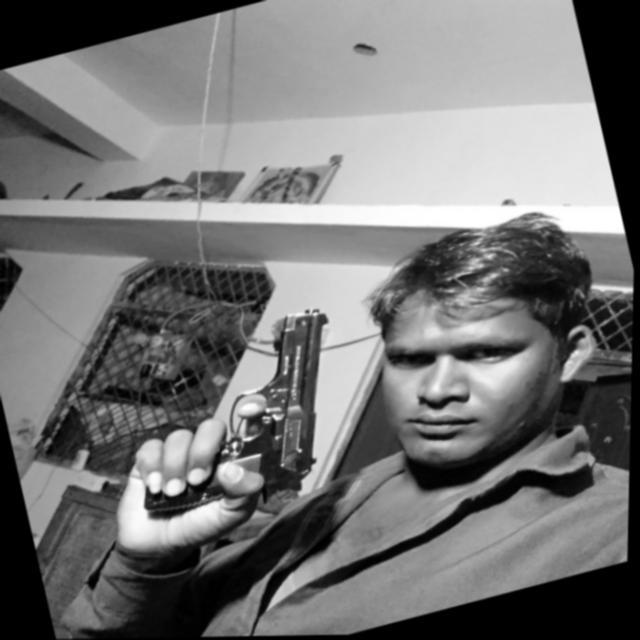weapon: (104, 297, 378, 538)
